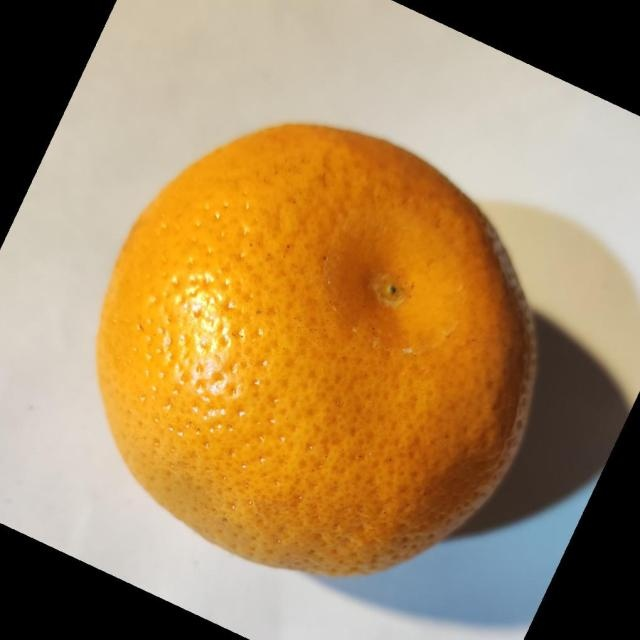agrume: (94, 120, 538, 577)
